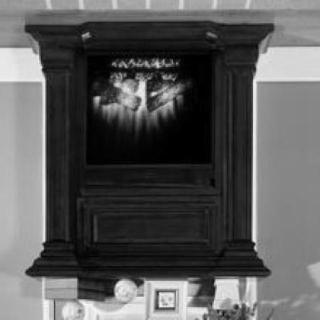Fire: (96, 59, 192, 139)
